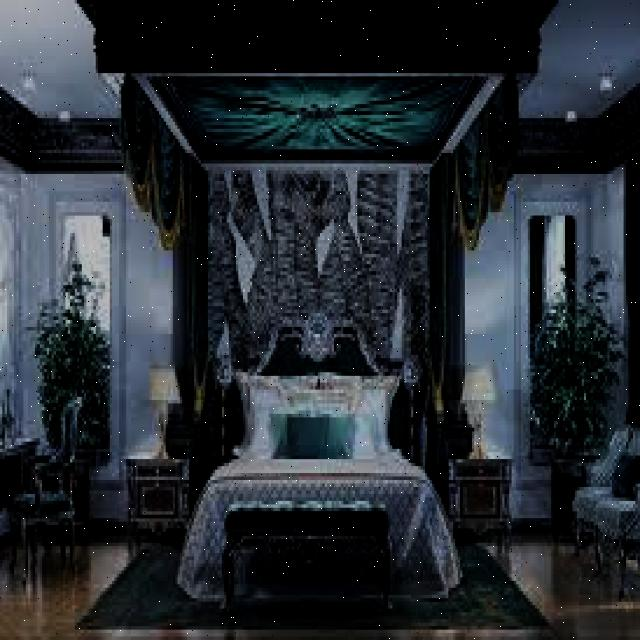bed: (186, 363, 455, 601)
